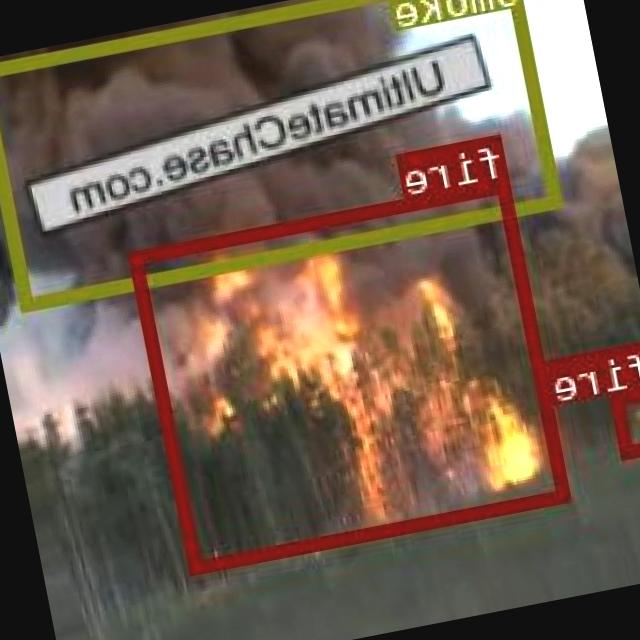fire: (130, 178, 572, 571), (611, 382, 640, 458)
smoke: (0, 0, 564, 307)
